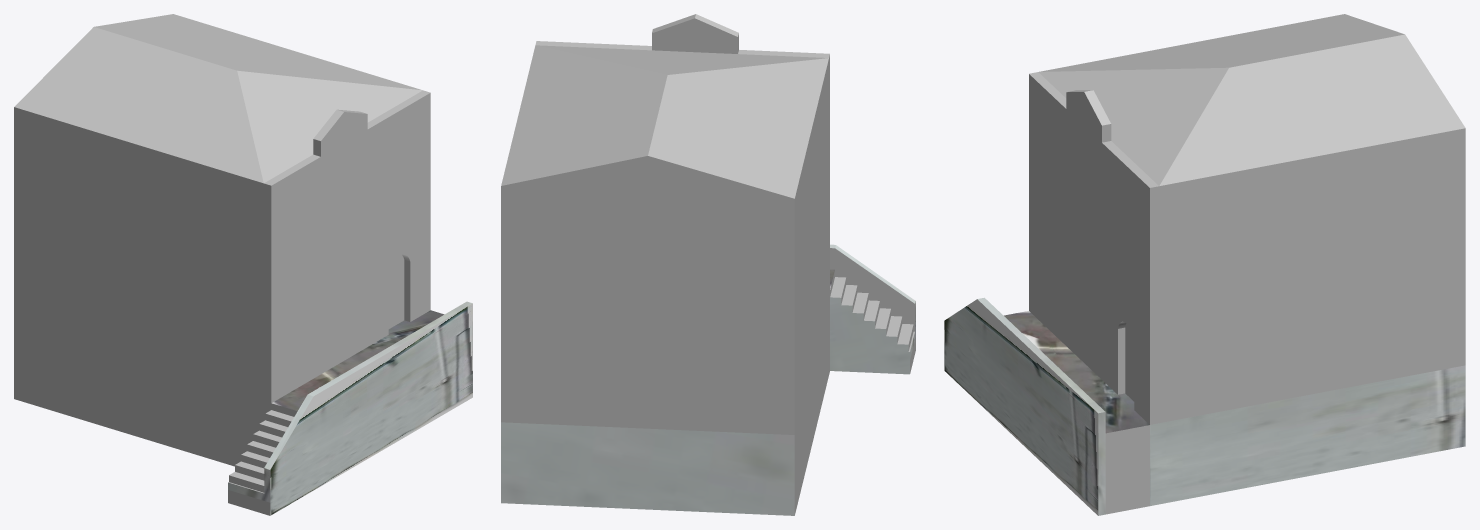
File: Casa+antigua+Santa+Teresa.fbx
3 renders of one model, left to right at view 1: azimuth 30°, elevation 25°; view 2: azimuth 150°, elevation 25°; view 3: azimuth 270°, elevation 25°, orthographic. The views are drawn at different scales.
Parts seen in each view (by area): view 1: Model; view 2: Model; view 3: Model.
Part boxes in pixels (x1,y1,x2,y2): Model: (14, 14, 472, 515); Model: (501, 14, 915, 515); Model: (944, 14, 1465, 515).
Bounding box in the file's own units: 16.12 × 14.52 × 19.34.
